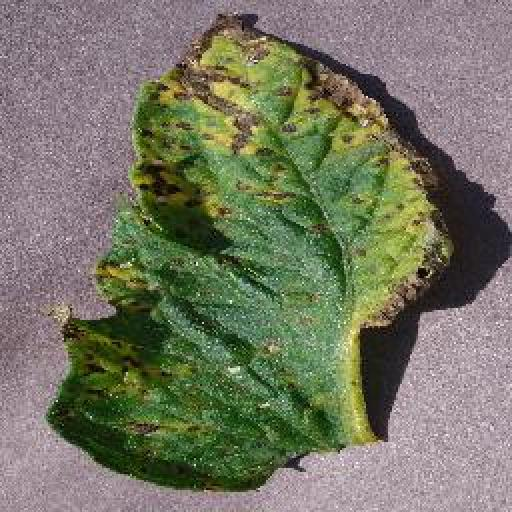disease_tomato: (46, 13, 451, 492)
